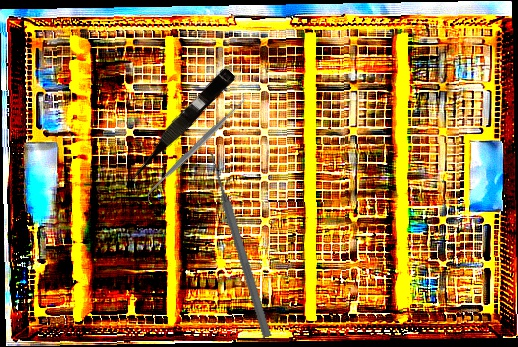Micro Scissor: (121, 64, 237, 187)
Pusher: (205, 150, 274, 339)
Spatula Surgical: (137, 91, 254, 205)
